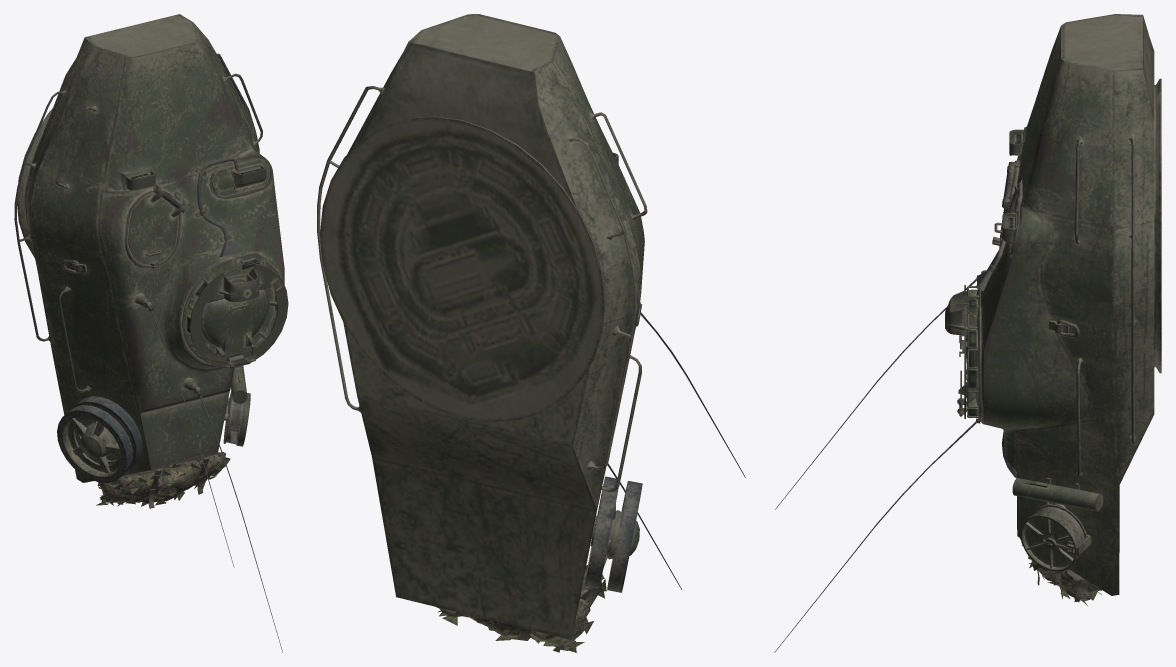
File: Turret_01.glb
The picture shows the model from 3 angles, left to right: view 1: azimuth 30°, elevation 25°; view 2: azimuth 150°, elevation 25°; view 3: azimuth 270°, elevation 25°; orthographic projection. The views are drawn at different scales.
Parts seen in each view (by area): view 1: set_0_group_0; view 2: set_0_group_0; view 3: set_0_group_0.
Part boxes in pixels (x1=…): set_0_group_0: x1=14, y1=14, x2=288, y2=652; set_0_group_0: x1=317, y1=14, x2=745, y2=652; set_0_group_0: x1=774, y1=14, x2=1161, y2=652.
Size of the model in its own units: 2.01 by 4.08 by 2.34.
Materials: 1 (1 with a texture image).
